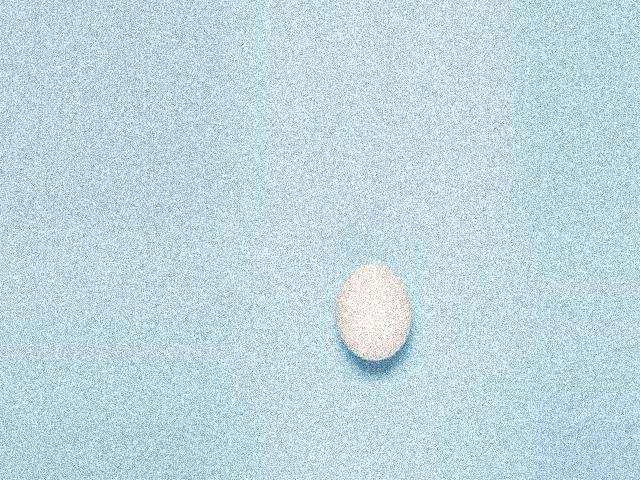egg: (335, 261, 410, 361)
